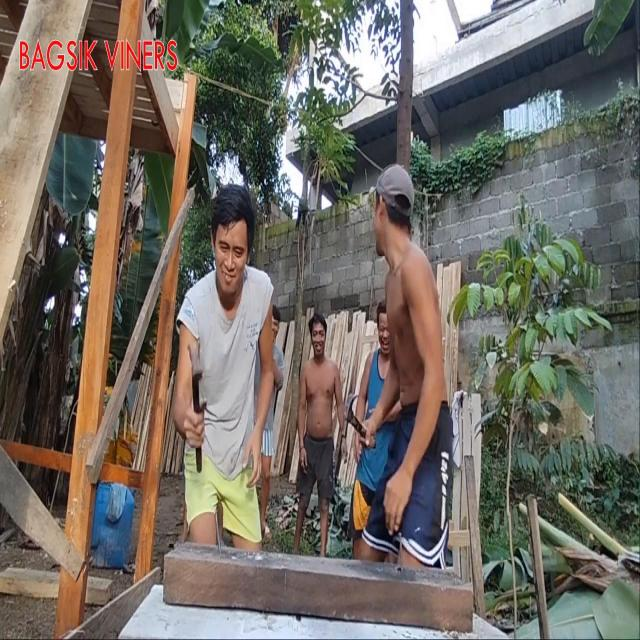hammer: (186, 339, 207, 477), (342, 390, 378, 450)
